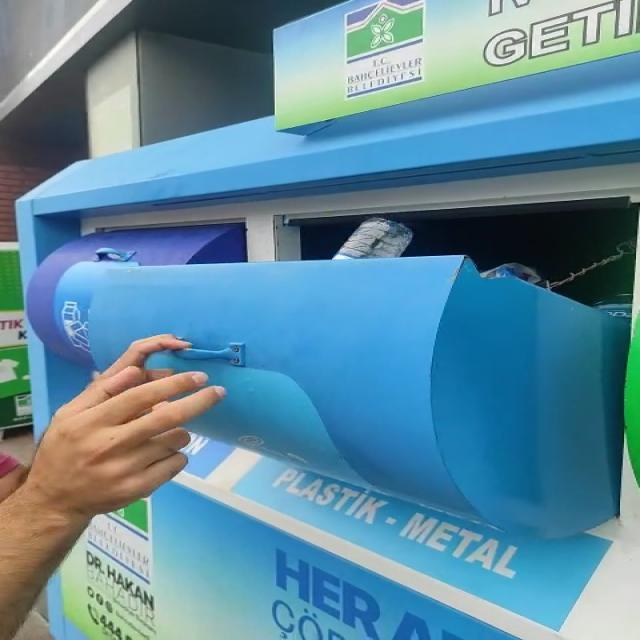Plastic: (332, 218, 413, 260)
